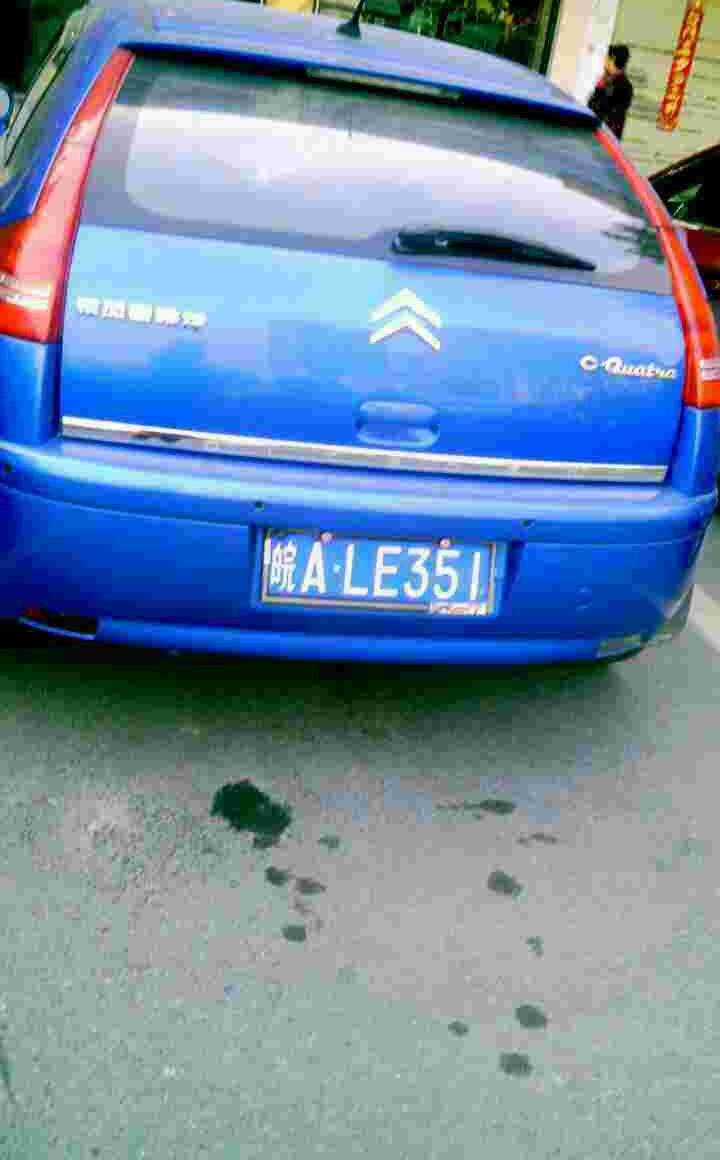license_plate: (241, 516, 519, 610)
